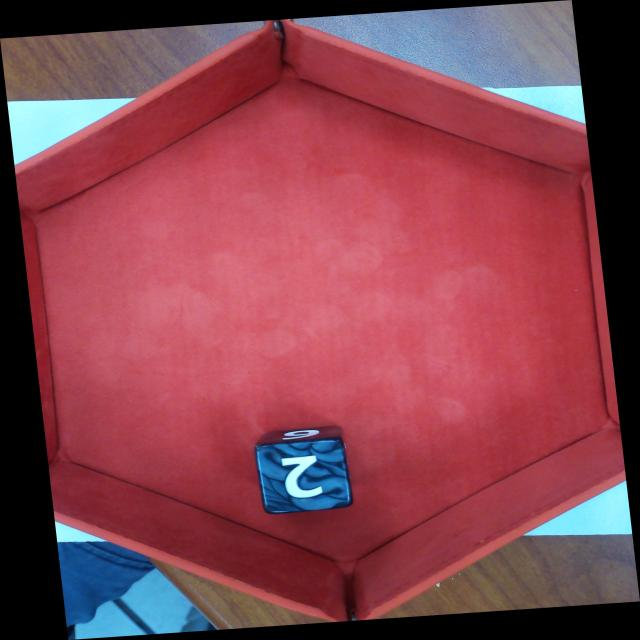dice: (252, 436, 355, 516)
